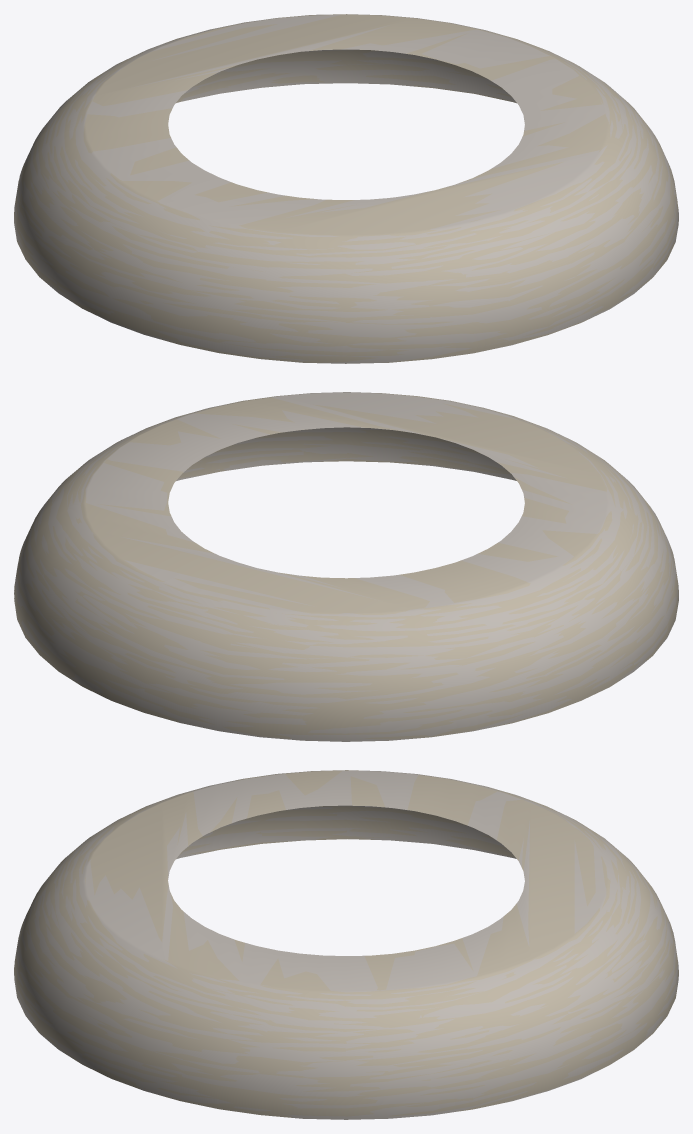
The model's file is original_11.obj.
3 renders of one model, top to bottom at view 1: azimuth 30°, elevation 25°; view 2: azimuth 150°, elevation 25°; view 3: azimuth 270°, elevation 25°, orthographic.
Parts seen in each view (by area): view 1: #ID298; view 2: #ID298; view 3: #ID298.
Boxes of the visible parts, x1=… form: #ID298: x1=14, y1=14, x2=678, y2=363; #ID298: x1=14, y1=392, x2=678, y2=741; #ID298: x1=14, y1=770, x2=678, y2=1119.
Size of the model in its own units: 0.5585 by 0.0918 by 0.5586.
Materials: 2 (1 with a texture image).
